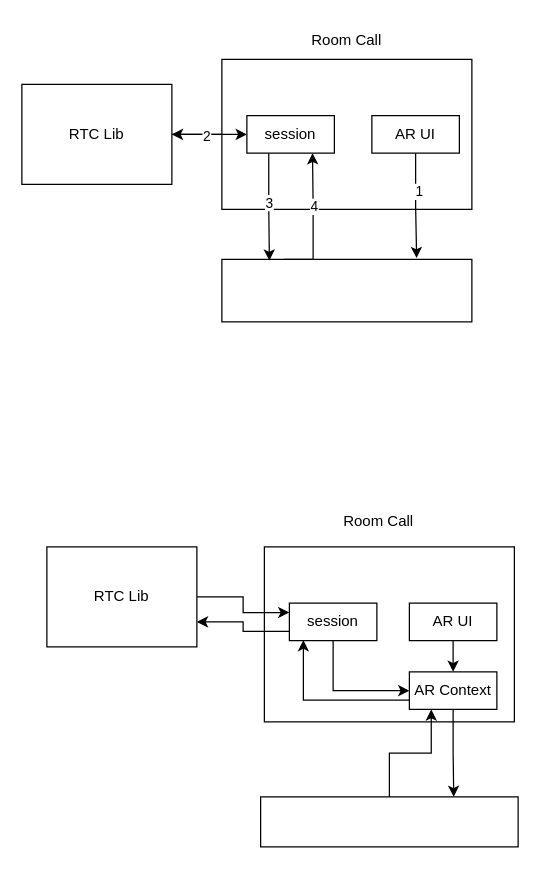
Some shapes in this 540 by 869 pixel diagram are drawn without their labels. The shapes that lost their labels are listed below. From the top down, each one's box as (x1, y1, x2, y2) in pixels, then its label:
(221, 258, 472, 322): AR Process
(259, 796, 518, 847): ARProvider
